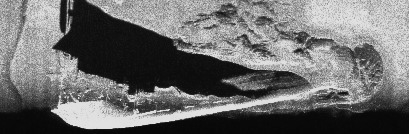ship: (53, 57, 390, 126)
